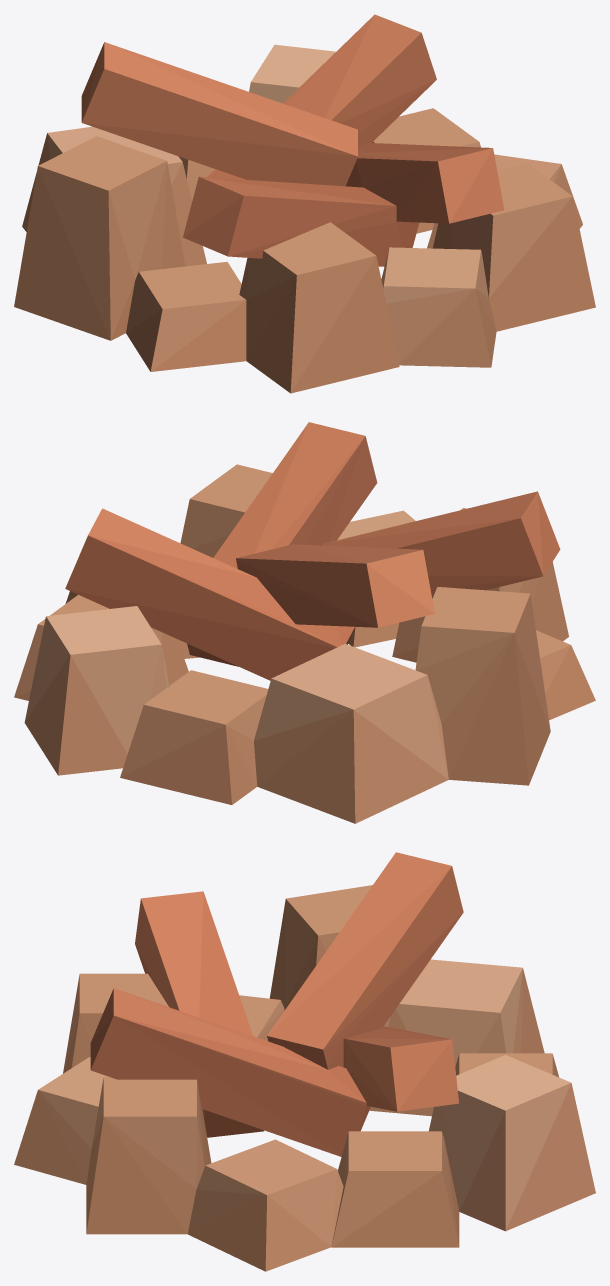
The model's file is campfire-pit.glb.
The picture shows the model from 3 angles, top to bottom: view 1: azimuth 30°, elevation 25°; view 2: azimuth 150°, elevation 25°; view 3: azimuth 270°, elevation 25°; orthographic projection. The views are drawn at different scales.
Parts seen in each view (by area): view 1: cd18f67, cdb845d, cd7966f, cdc9e77, cd37d58, ccf7a55, cda9b74, cd4936b, cd7815b, cdf8860, ce4ab84, cefba94 (+6 smaller); view 2: cd7966f, cd18f67, ccf7a55, cd37d58, cdc9e77, ce1a680, cdb845d, cd7815b, cc4714e, cd4936b, cda9b74, ceab38d (+7 smaller); view 3: cd7966f, cdc9e77, cdb845d, cd4936b, cd18f67, ce1a680, ccf7a55, cd7815b, cda9b74, cc77450, ccb7753, cdea27b (+7 smaller).
Boxes of the visible parts, box(x1,y1,x2,y2) form: cd18f67: box(14, 162, 595, 393); cdb845d: box(81, 14, 492, 236); cd7966f: box(22, 133, 561, 392); cdc9e77: box(38, 108, 572, 308); cd37d58: box(183, 15, 504, 256); ccf7a55: box(82, 19, 488, 220); cda9b74: box(108, 156, 572, 363); cd4936b: box(108, 161, 582, 367); cd7815b: box(199, 33, 491, 205); cdf8860: box(81, 42, 356, 155); ce4ab84: box(384, 247, 480, 288); cefba94: box(251, 44, 335, 87); cd7966f: box(14, 586, 570, 823); cd18f67: box(14, 562, 595, 804); ccf7a55: box(65, 423, 519, 647); cd37d58: box(89, 436, 560, 626); cdc9e77: box(38, 464, 570, 777); ce1a680: box(25, 617, 448, 779); cdb845d: box(88, 491, 543, 627); cd7815b: box(254, 422, 537, 553); cc4714e: box(66, 589, 335, 680); cd4936b: box(65, 534, 537, 786); cda9b74: box(180, 499, 523, 786); ceab38d: box(271, 643, 426, 709); cd7966f: box(38, 932, 595, 1247); cdc9e77: box(79, 885, 552, 1185); cdb845d: box(91, 866, 463, 1111); cd4936b: box(14, 900, 330, 1271); cd18f67: box(63, 936, 559, 1247); ce1a680: box(396, 1004, 571, 1230); ccf7a55: box(116, 892, 462, 1110); cd7815b: box(113, 891, 397, 1111); cda9b74: box(91, 899, 522, 1246); cc77450: box(115, 1016, 394, 1154); ccb7753: box(91, 1016, 343, 1156); cdea27b: box(38, 1090, 458, 1208).
Bounding box in the file's own units: 0.2778 × 0.1091 × 0.2692.
